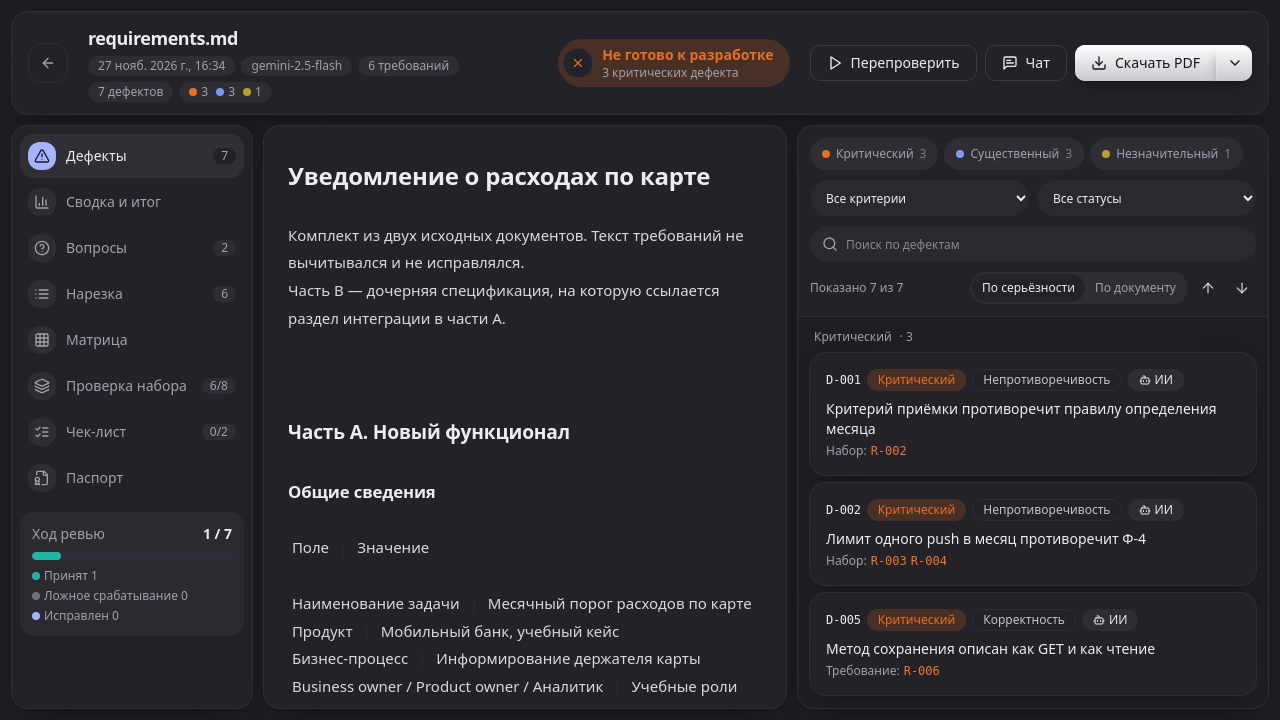
Test: Report screen › summary tab shows key figures and per-criterion stats computed from the report
The width and height of the screenshot is (1280, 720).
expect the element with test id "findings-list" is shown: met, box [798, 317, 1268, 708]
Click the tab "Сводка и итог".
click(132, 202)  # box [20, 180, 244, 224]
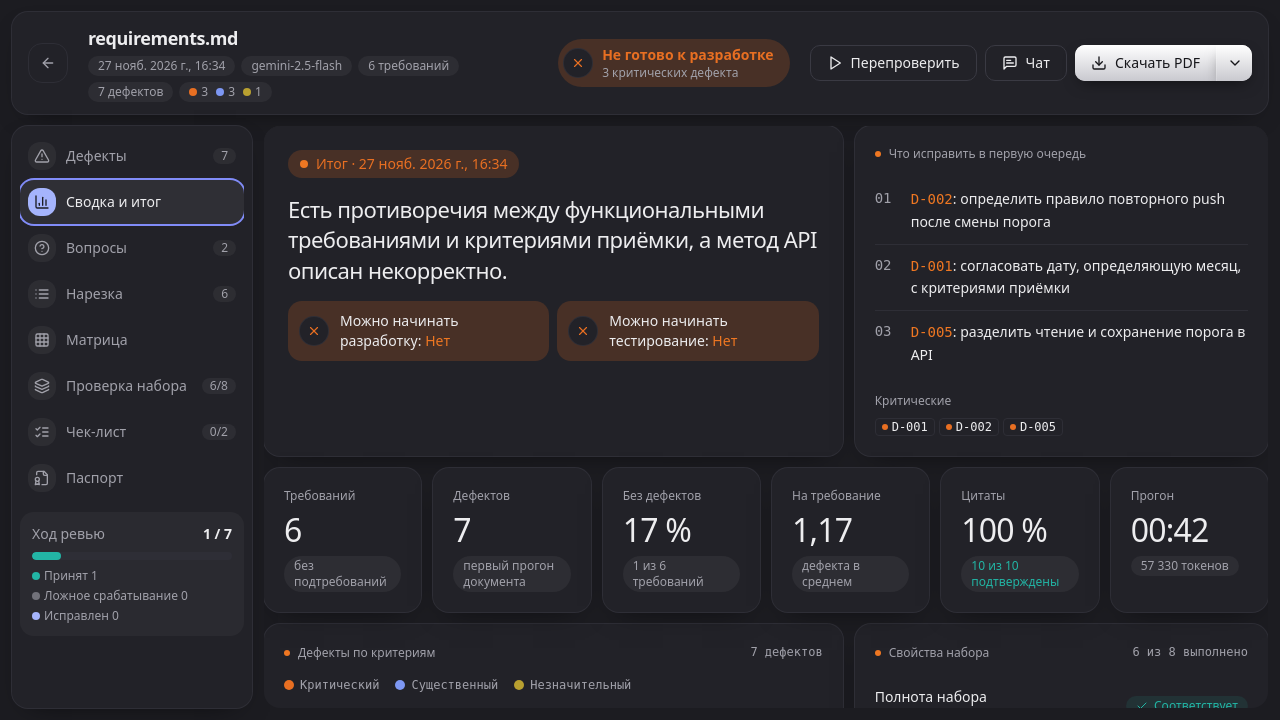
expect the text "Требований" is shown: met, box [284, 486, 355, 504]
expect the heading "Свойства набора" is shown: met, box [875, 644, 989, 660]
